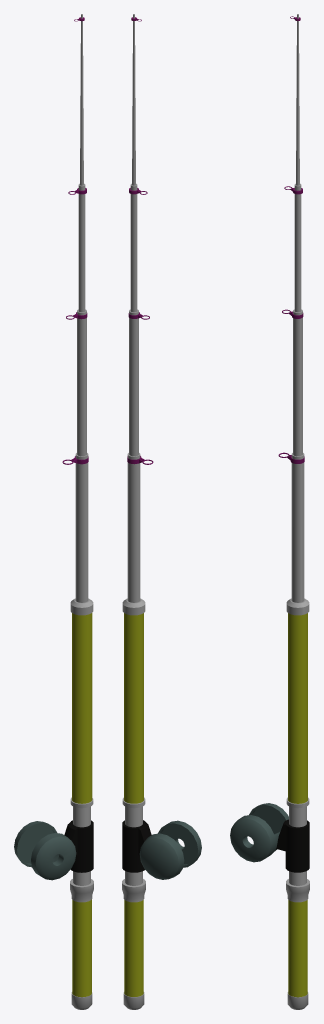
Rendered from rod.fbx.
3 views of the same model, side by side, from view 1: azimuth 30°, elevation 25°; view 2: azimuth 150°, elevation 25°; view 3: azimuth 330°, elevation 25° (orthographic).
Parts seen in each view (by area): view 1: rod1; view 2: rod1; view 3: rod1.
Part boxes in pixels (box(x1,y1,x2,y2)): rod1: box(14, 14, 93, 1009); rod1: box(122, 14, 201, 1009); rod1: box(230, 14, 309, 1009).
Bounding box in the file's own units: 24.78 × 344 × 16.73.
